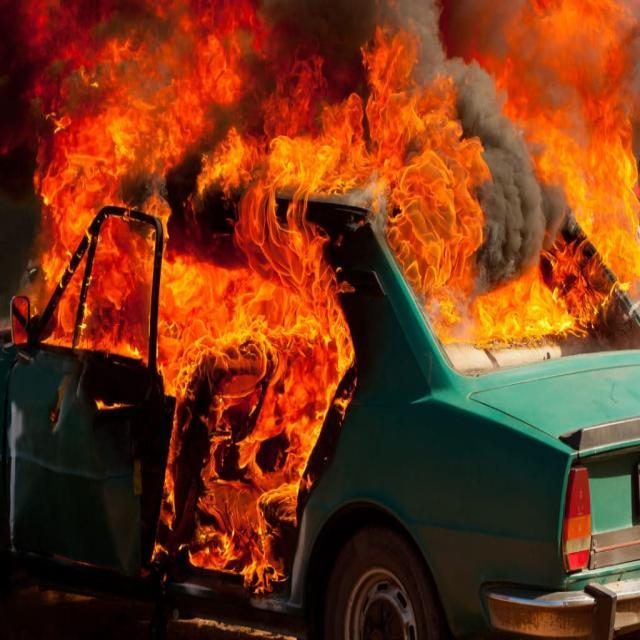fire: (85, 54, 608, 364), (174, 378, 327, 583)
